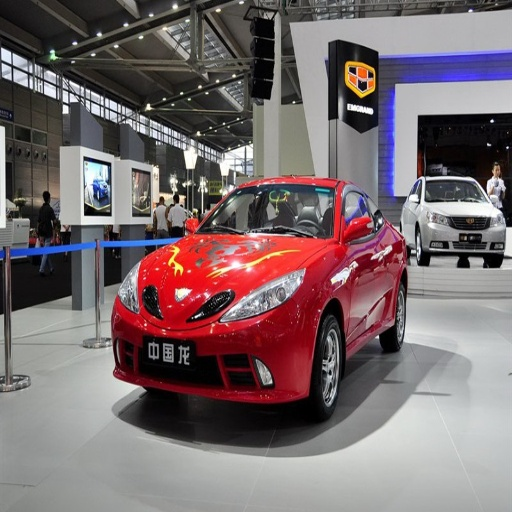back_left_door: (366, 199, 397, 318)
front_bumper: (209, 298, 315, 404)
front_glass: (191, 184, 334, 238), (67, 2, 144, 51)
front_left_door: (341, 189, 379, 336)
trunk: (119, 282, 216, 338)
